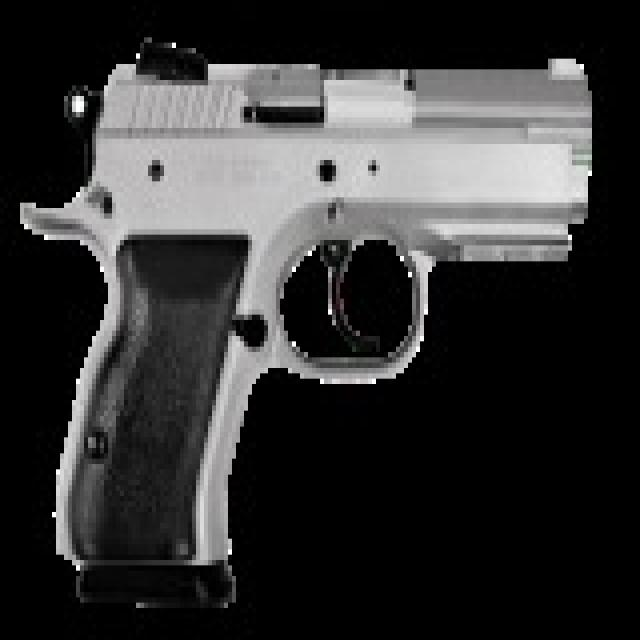Gun: (7, 40, 601, 614)
